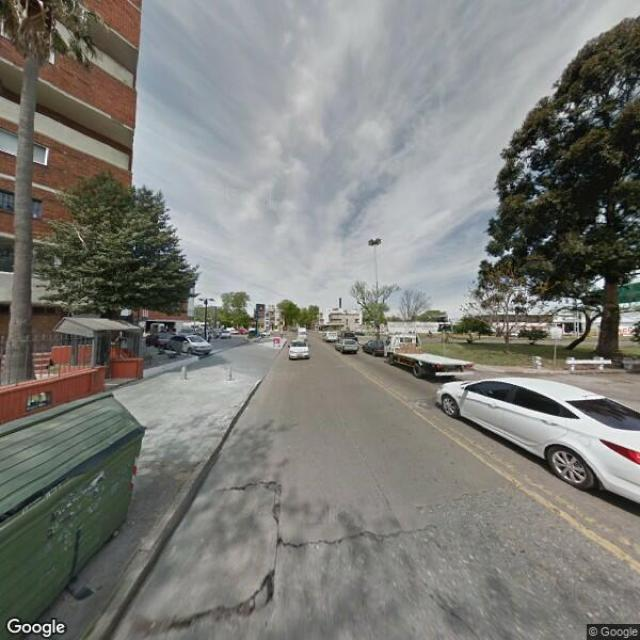garbage container: (2, 379, 161, 640)
